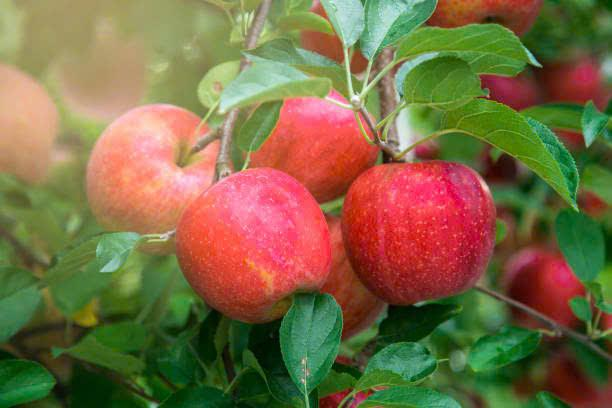apple: (341, 153, 504, 318), (170, 161, 333, 318), (80, 95, 215, 240), (225, 66, 389, 181)
